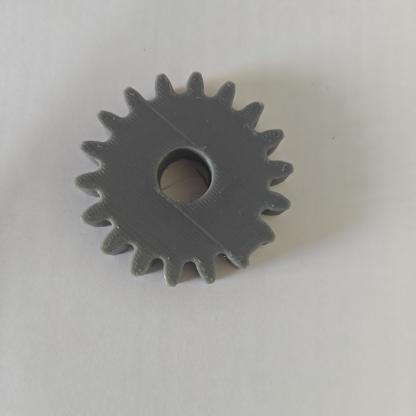defect: (212, 208, 288, 282)
gear: (67, 62, 317, 322)
